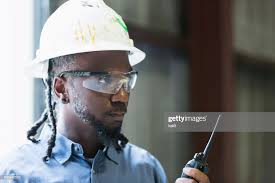Person_wearing_helmet: (33, 0, 148, 86)
